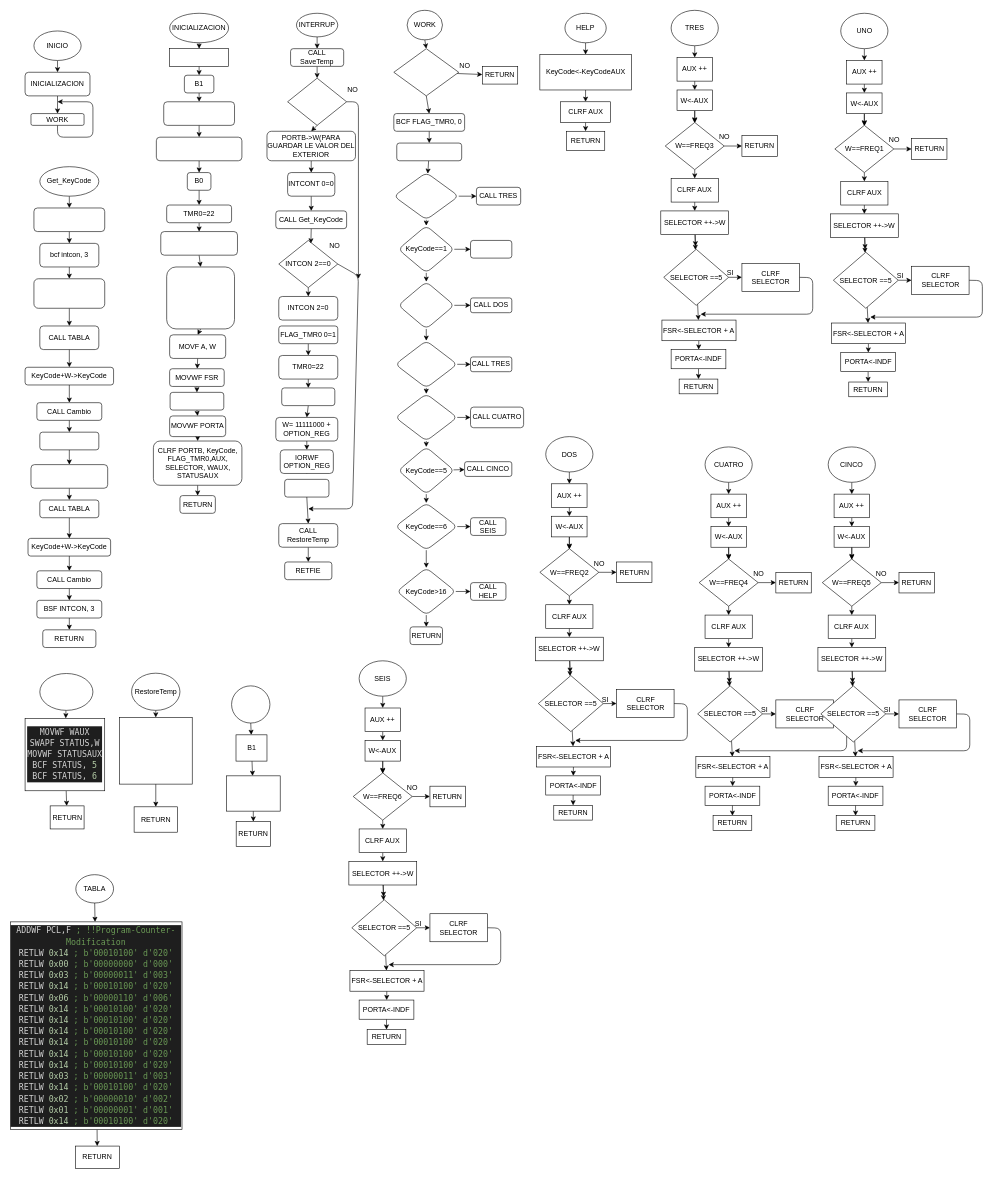
Image size: 998x1179. Some labels were removed from this diagram. The shapes that lost their labels are listed below. From the top down, each one's box as (x1, y1, x2, y2) in pixels, then its label:
(169, 48, 229, 66): CMCON=0x07
(393, 48, 459, 96): FLAG_TMR0 0==1
(163, 101, 235, 125): TRISA, TRISB=00001111
(287, 78, 347, 125): INTCON 0==0
(156, 137, 242, 161): OPTION_REG=00000111
(396, 142, 462, 161): MOVF KeyCode, W
(393, 172, 459, 220): KeyCode==0
(33, 207, 105, 232): keyCode=0
(160, 231, 237, 255): INTCON= 10101000
(470, 240, 512, 258): CALL UNO
(33, 278, 105, 308): SWAPF PORTB, W
(166, 266, 235, 329): E<-00000001 D<-00000010 C<-00000100 B<-00001000 A<-00000000
(398, 281, 454, 329): KeyCode==2
(395, 340, 457, 388): KeyCode==3
(170, 392, 224, 410): MOV INDF, W
(281, 387, 335, 406): STATUS 5= 1
(395, 393, 457, 441): KeyCode==4
(39, 432, 99, 450): PORTB=0
(30, 464, 108, 488): POTB XOR 0X0F->W
(284, 479, 329, 497): STATUS 5=0
(39, 673, 93, 710): SaveTemp
(231, 685, 270, 723): Cambio
(119, 717, 192, 784): SWAPF STATUSAUX,W MOVWF STATUS SWAPF WAUX,F SWAPF WAUX,W
(226, 775, 280, 811): COMF PORTB
